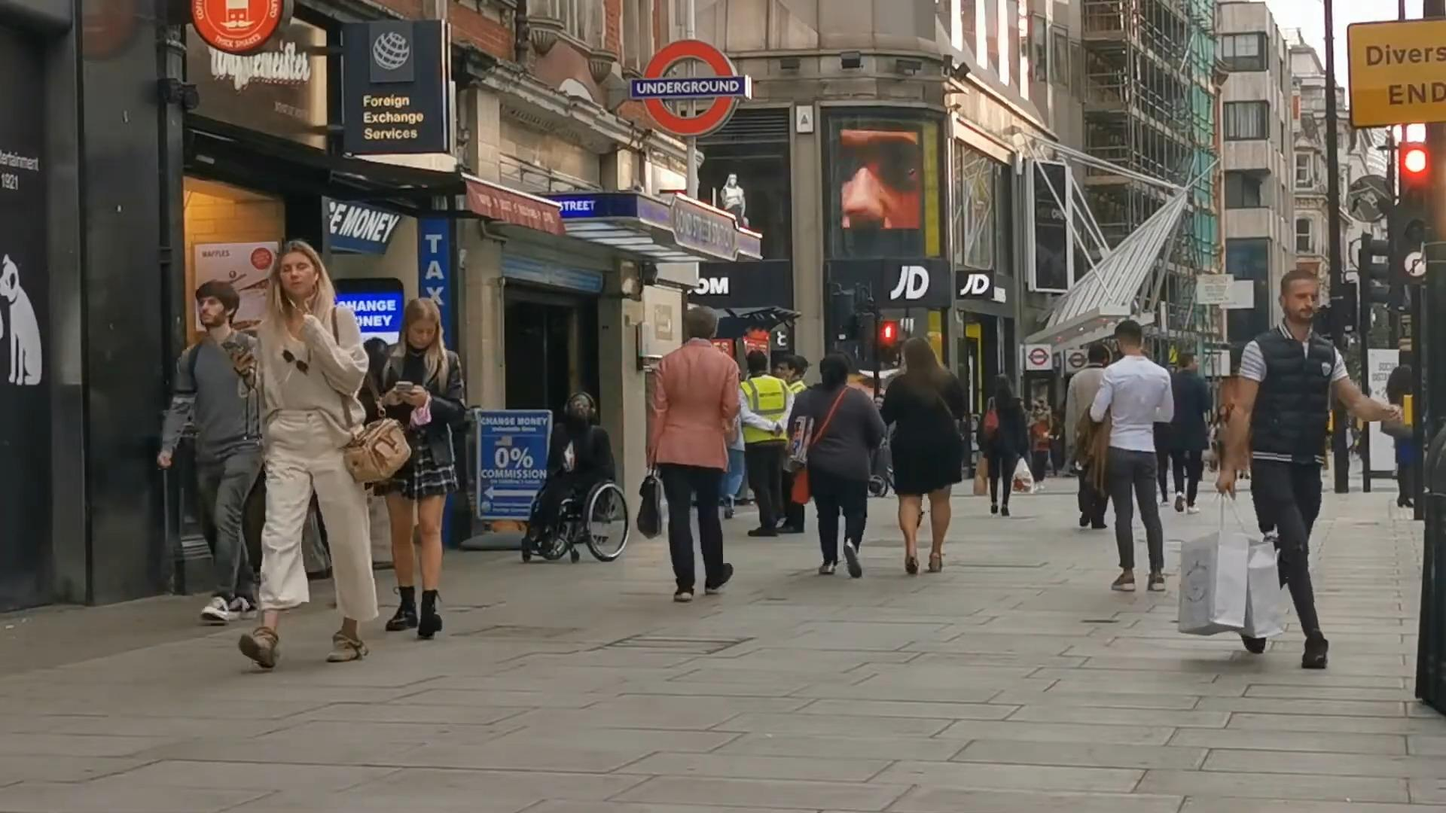no-helmet: (269, 240, 333, 297), (196, 279, 240, 334), (1278, 269, 1319, 326), (399, 298, 444, 348), (901, 337, 942, 379), (686, 306, 719, 342), (820, 352, 850, 389), (1114, 319, 1142, 358), (776, 355, 802, 382), (993, 373, 1013, 398), (747, 350, 767, 374), (1088, 343, 1108, 366)
